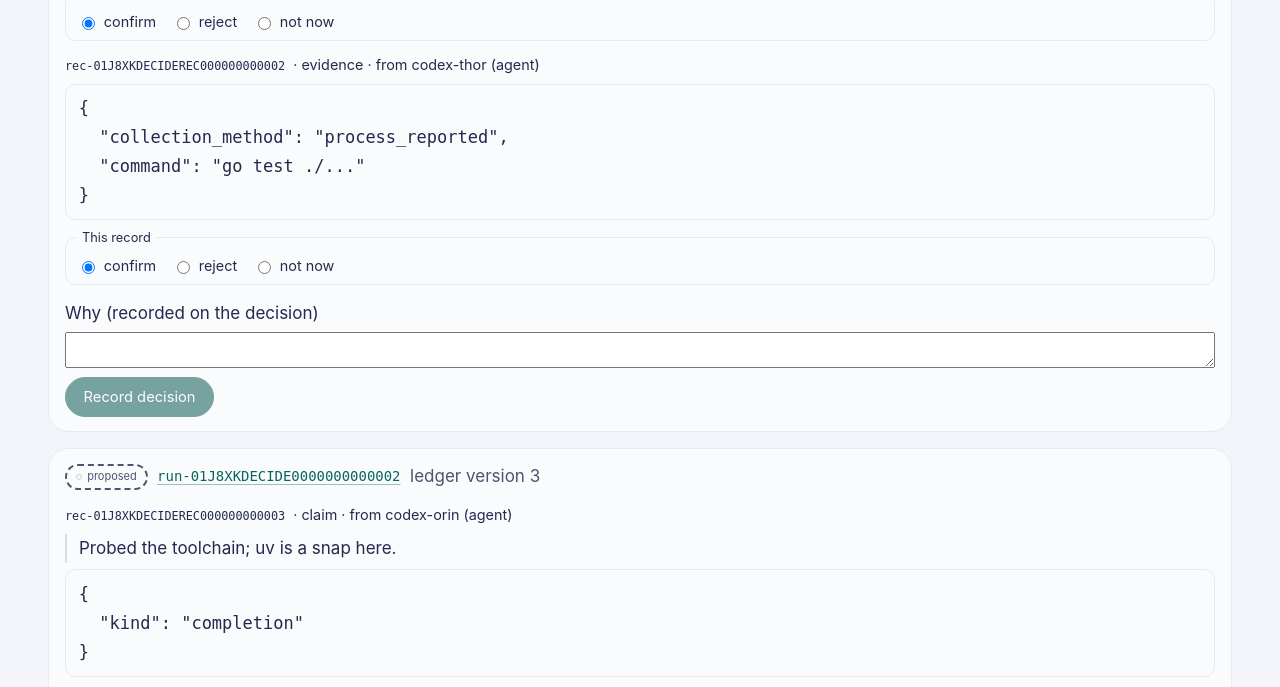
Test: Decisions submission › creates a review then commits it, neither carrying an Authorization header, naming the signed-in reviewer and the version this page read
(page scrolled)
Type "re-ran the suite on spark and read the output" into the text box labelled "Why (recorded on the decision)" at x=640, y=350, box [65,332,1215,368]
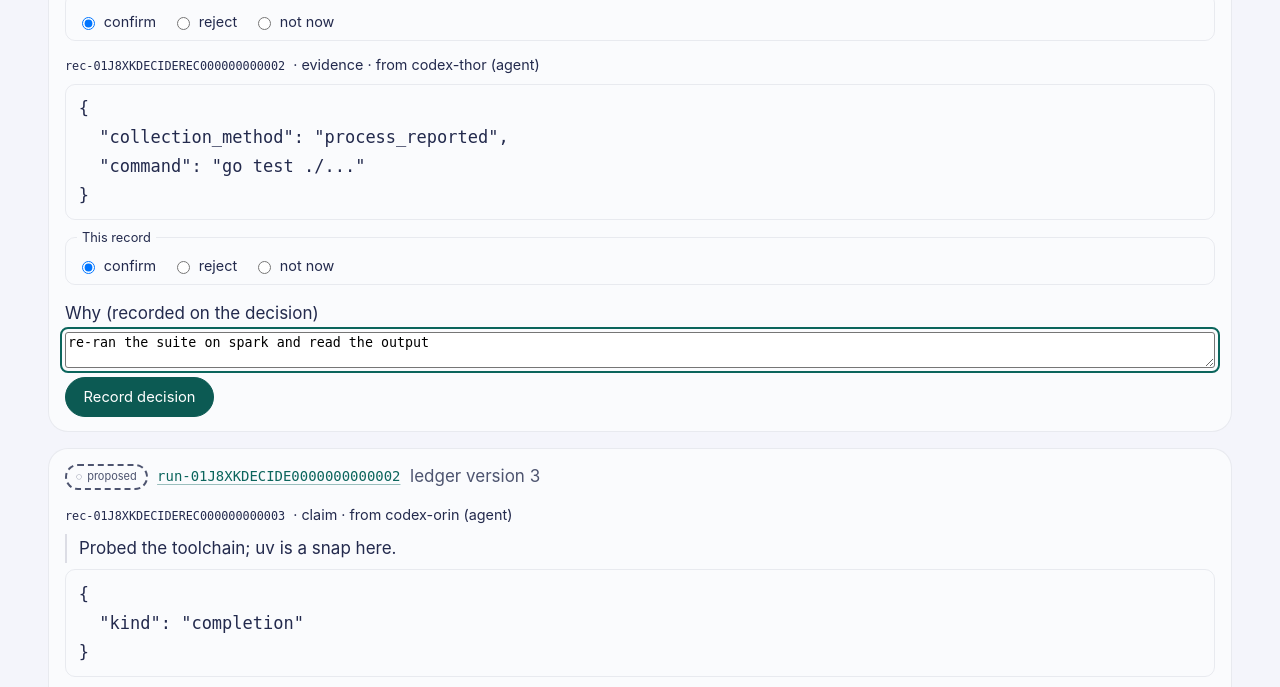
Click the button "Record decision" at x=140, y=397, box [65,377,214,417]
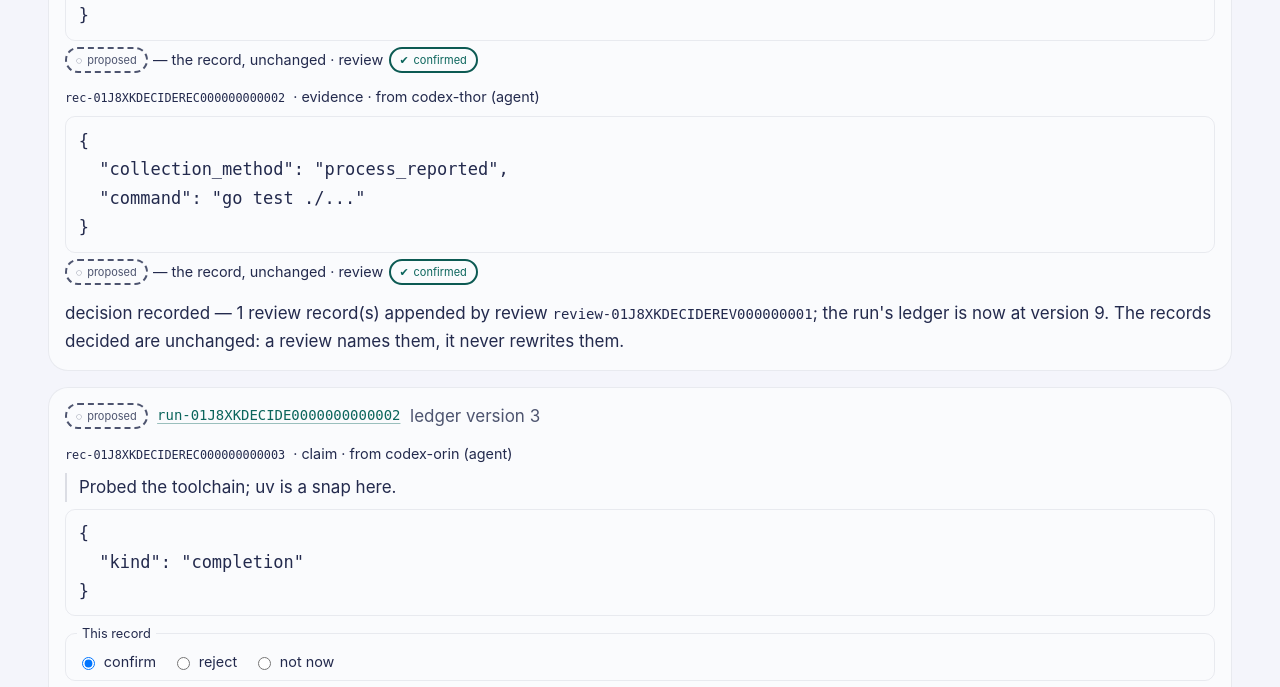
Now the text "decision recorded" is shown, box [65,303,237,323]
